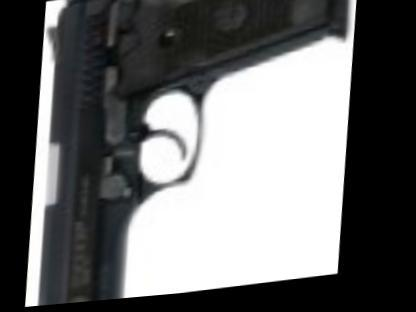pistol: (21, 0, 366, 308)
